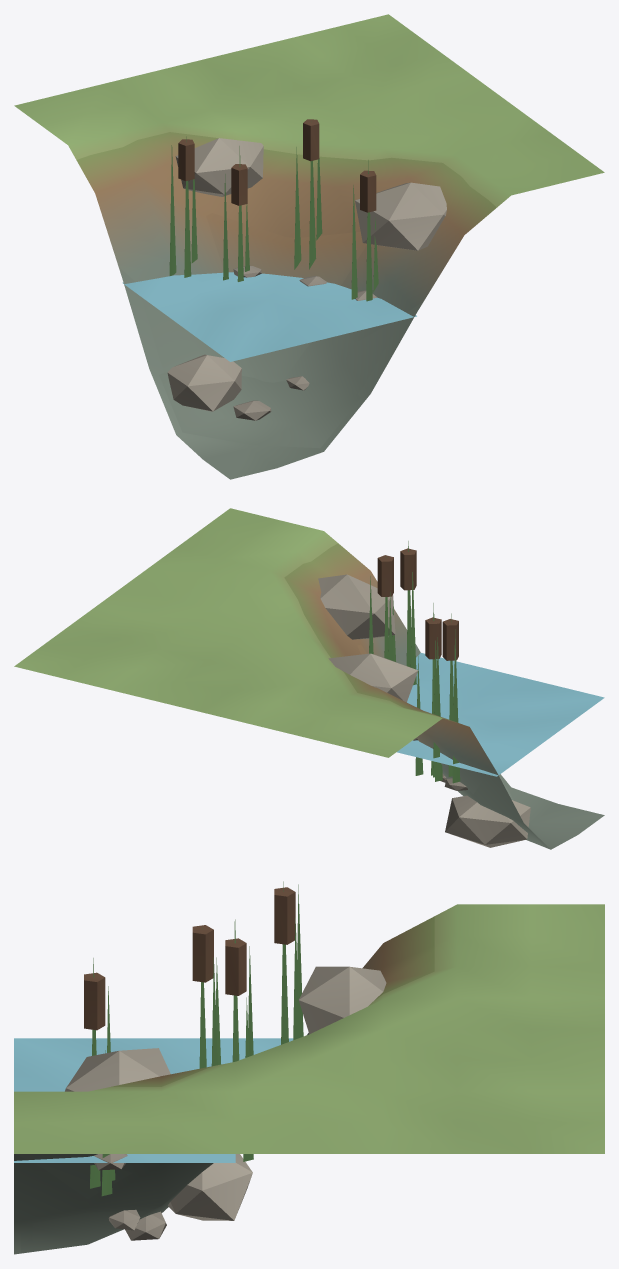
The model's file is bank.outer.glb.
The picture shows the model from 3 angles, top to bottom: view 1: azimuth 30°, elevation 25°; view 2: azimuth 150°, elevation 25°; view 3: azimuth 270°, elevation 25°; orthographic projection. The views are drawn at different scales.
Parts seen in each view (by area): view 1: bank.outer.v2.land, bank.outer.v1.land, bank.outer.v0.water, bank.outer.v0.land; view 2: bank.outer.v2.land, bank.outer.v1.land, bank.outer.v0.water, bank.outer.v0.land; view 3: bank.outer.v2.land, bank.outer.v1.land, bank.outer.v0.water, bank.outer.v0.land.
Boxes of the visible parts, left/top/right/bottom form: bank.outer.v2.land: left=14, top=14, right=604, bottom=479; bank.outer.v1.land: left=76, top=119, right=496, bottom=448; bank.outer.v0.water: left=122, top=272, right=416, bottom=361; bank.outer.v0.land: left=141, top=265, right=398, bottom=420; bank.outer.v2.land: left=14, top=508, right=604, bottom=849; bank.outer.v1.land: left=284, top=541, right=550, bottom=849; bank.outer.v0.water: left=397, top=653, right=604, bottom=776; bank.outer.v0.land: left=413, top=718, right=545, bottom=847; bank.outer.v2.land: left=14, top=904, right=604, bottom=1251; bank.outer.v1.land: left=14, top=881, right=434, bottom=1254; bank.outer.v0.water: left=14, top=1038, right=293, bottom=1162; bank.outer.v0.land: left=17, top=1154, right=169, bottom=1253.
Bounding box in the file's own units: 1 × 0.6994 × 1.
